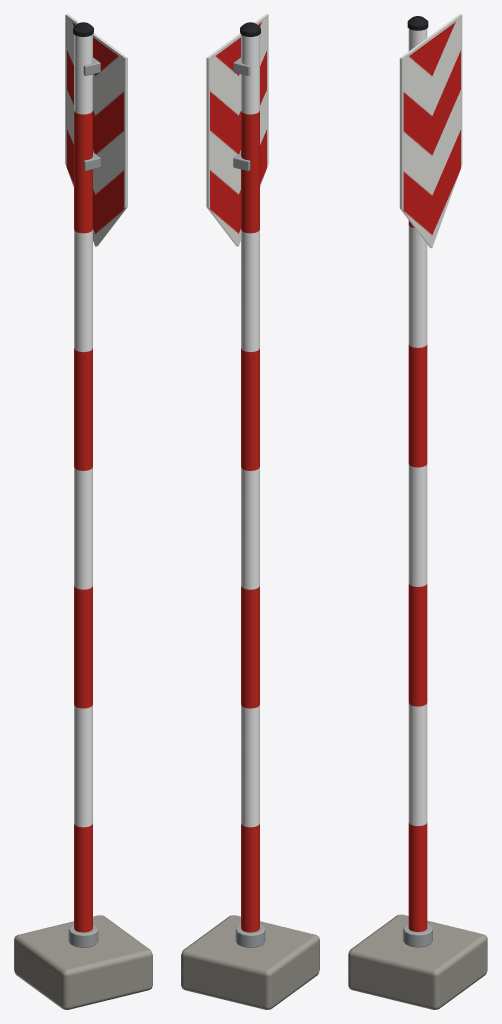
File: snow_pole.fbx
The picture shows the model from 3 angles, left to right: view 1: azimuth 30°, elevation 25°; view 2: azimuth 150°, elevation 25°; view 3: azimuth 330°, elevation 25°; orthographic projection.
Parts seen in each view (by area): view 1: snow_pole; view 2: snow_pole; view 3: snow_pole.
Boxes of the visible parts, box(x1,y1,x2,y2) form: snow_pole: box(14, 14, 152, 1009); snow_pole: box(181, 14, 319, 1009); snow_pole: box(348, 14, 487, 1009).
Bounding box in the file's own units: 0.28 × 2.83 × 0.32.
7 materials, 1 textured.
